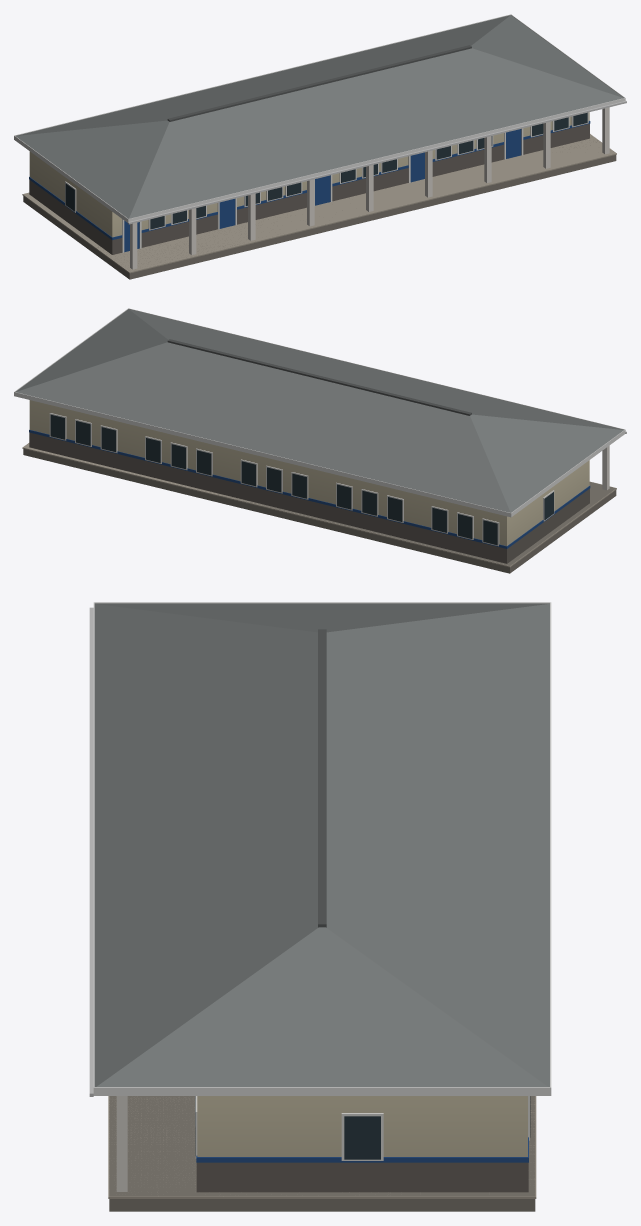
Rendered from ns_school1_lod1.glb.
The picture shows the model from 3 angles, top to bottom: view 1: azimuth 30°, elevation 25°; view 2: azimuth 150°, elevation 25°; view 3: azimuth 270°, elevation 25°; orthographic projection. The views are drawn at different scales.
Visible parts, largest first — view 1: ns_school1_lod1; view 2: ns_school1_lod1; view 3: ns_school1_lod1.
Part boxes in pixels (<box>): ns_school1_lod1: <box>14,14,626,279</box>; ns_school1_lod1: <box>14,308,626,573</box>; ns_school1_lod1: <box>89,602,551,1211</box>.
Bounding box in the file's own units: 31.32 × 5.92 × 12.56.
